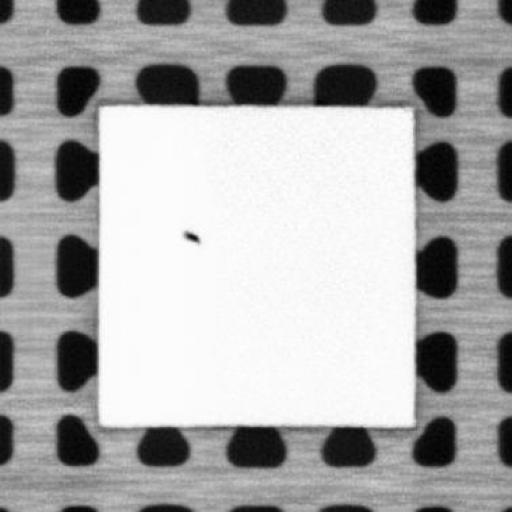DIE_INK: (179, 228, 200, 242)
